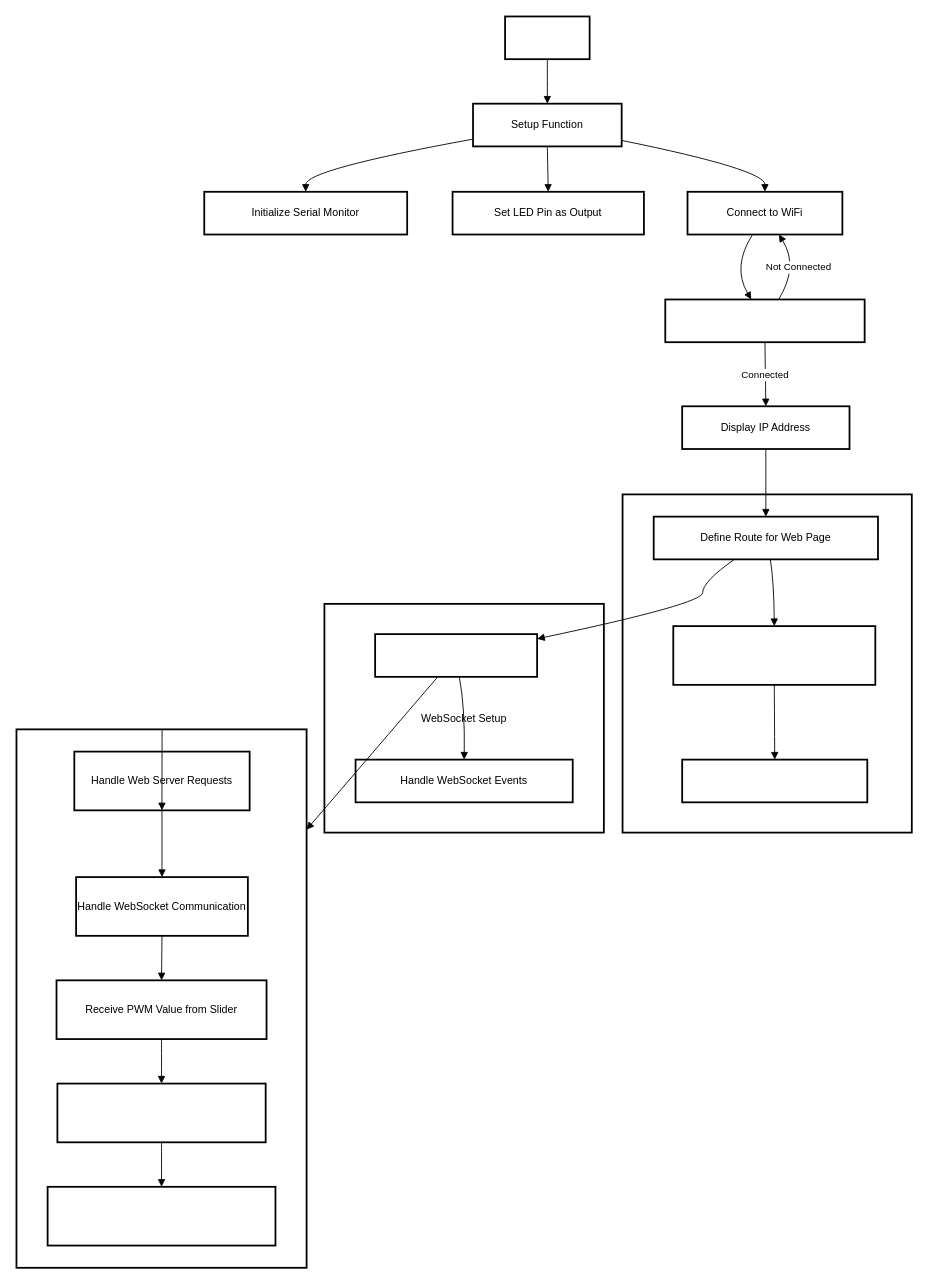
Some shapes in this 927 by 1283 pixel diagram are drawn without their labels. Here are the shapes that lost their labels. From the top down, the centre of each, then its label:
At (x=547, y=37): "Start".
At (x=764, y=320): "Check WiFi Connection".
At (x=456, y=655): "Begin WebSocket".
At (x=774, y=655): "Generate HTML for LED Control".
At (x=774, y=780): "Send HTML Response".
At (x=161, y=1112): "Set LED Brightness using PWM".
At (x=161, y=1215): "Display PWM Value in Serial Monitor".
